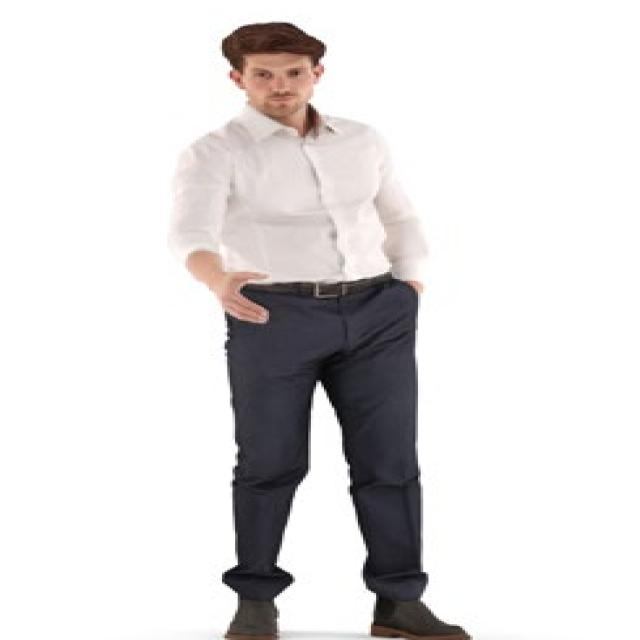standing: (175, 20, 477, 640)
